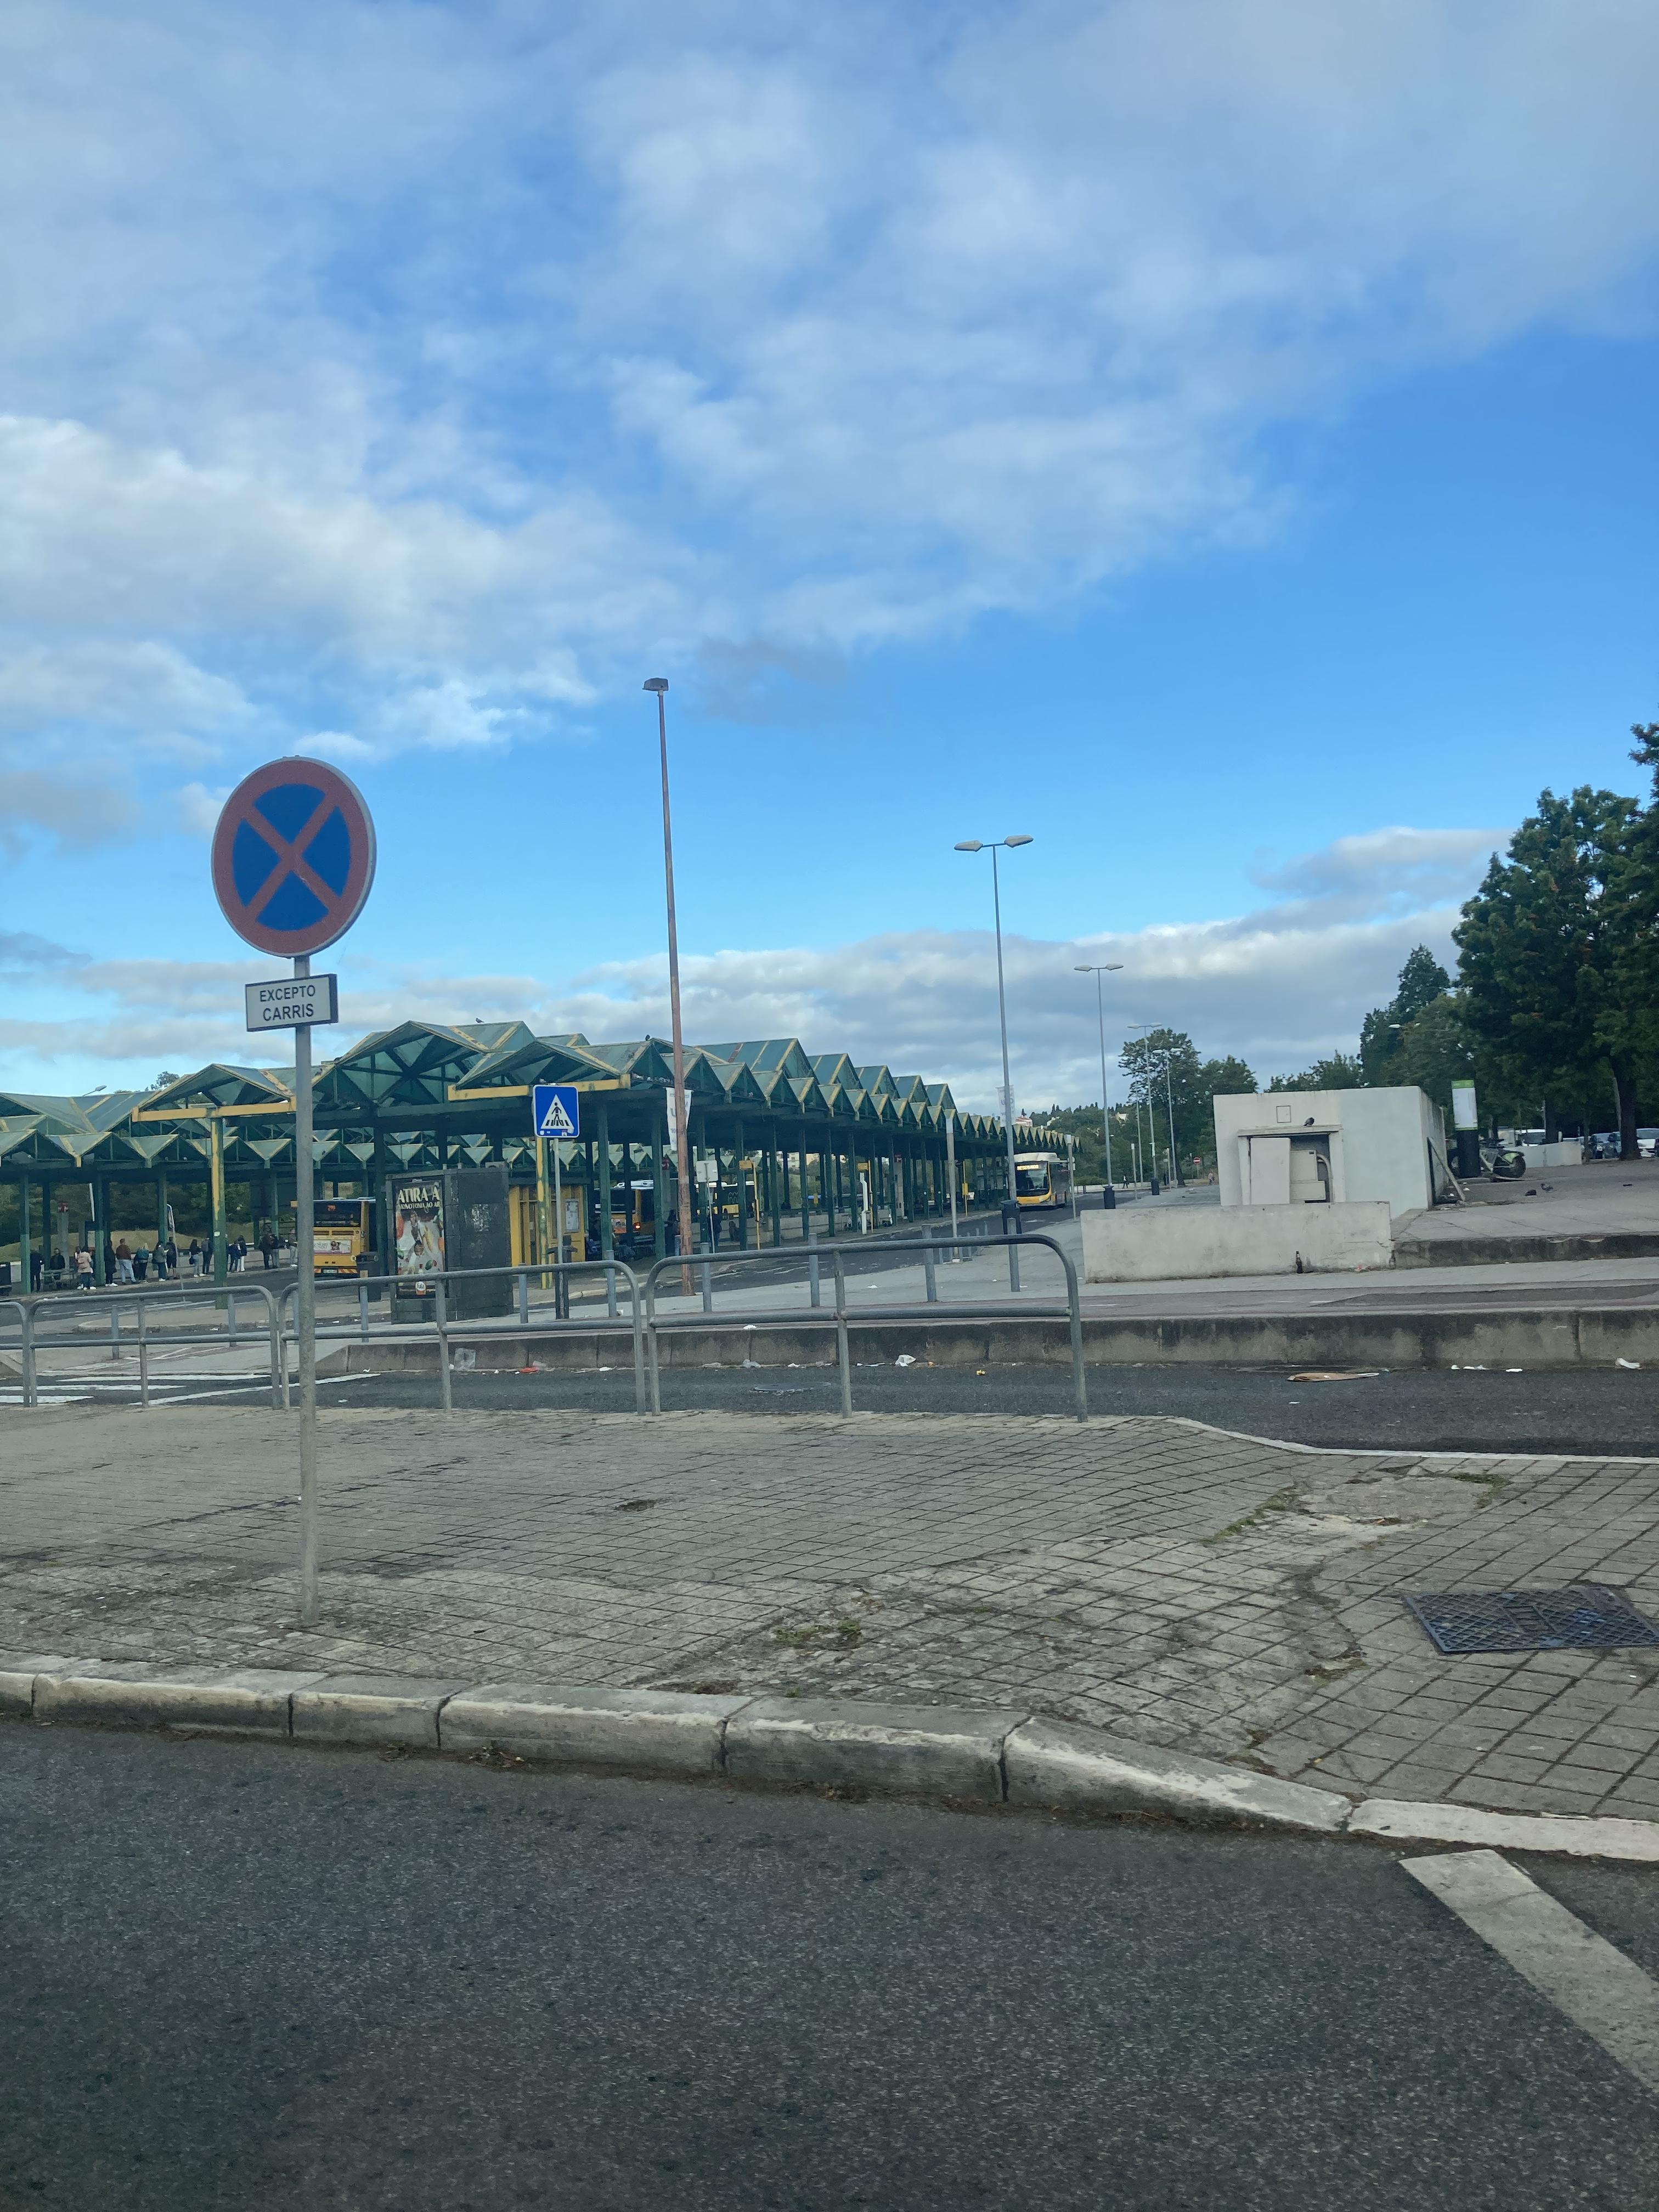passagem e estacionamento proibido: (205, 752, 381, 953)
